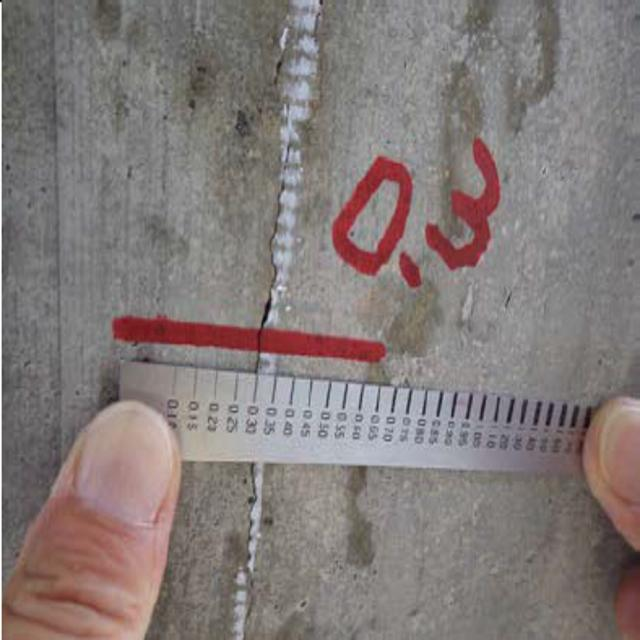crack: (248, 19, 303, 380), (230, 463, 280, 627)
